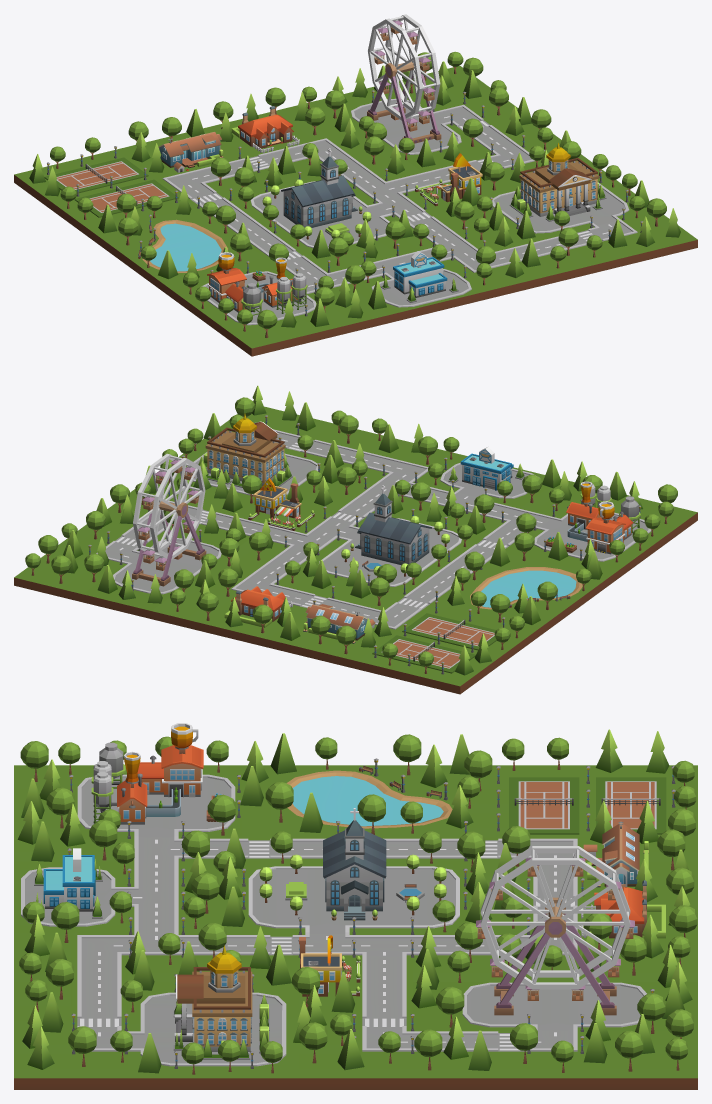
3 views of the same model, one above another, from view 1: azimuth 30°, elevation 25°; view 2: azimuth 150°, elevation 25°; view 3: azimuth 270°, elevation 25° (orthographic). The views are drawn at different scales.
Visible parts, largest first — view 1: lake, city hall with environment, rotation wheel, asphalt ground small wide, asphalt ground side turn, brewery house with environment, catholic temple with environment, asphalt ground small, asphalt ground wide side turn, asphalt ground large, tennis court brown, post office with environment (+33 smaller); view 2: lake, asphalt ground small wide, city hall with environment, rotation wheel, asphalt ground wide side turn, brewery house with environment, catholic temple with environment, asphalt ground large, asphalt ground small, tennis court brown (1), asphalt ground side turn, tennis court brown (+45 smaller); view 3: lake, asphalt ground wide side turn, asphalt ground side turn, rotation wheel, asphalt ground small wide, brewery house with environment, city hall with environment, asphalt ground large, catholic temple with environment, asphalt ground small, tennis court brown (1), ferris wheel (+120 smaller).
Boxes of the visible parts, x1,y1,x2,y2 form: lake: (93, 207, 274, 298); city hall with environment: (519, 143, 599, 216); rotation wheel: (368, 14, 440, 120); asphalt ground small wide: (323, 82, 486, 171); asphalt ground side turn: (473, 168, 647, 243); brewery house with environment: (207, 252, 307, 315); catholic temple with environment: (281, 148, 357, 227); asphalt ground small: (350, 261, 491, 322); asphalt ground wide side turn: (232, 177, 396, 256); asphalt ground large: (172, 265, 334, 341); tennis court brown: (44, 157, 148, 193); post office with environment: (393, 251, 447, 297); lake: (437, 545, 618, 636); asphalt ground small wide: (82, 522, 248, 618); city hall with environment: (205, 413, 285, 486); rotation wheel: (133, 453, 205, 559); asphalt ground wide side turn: (300, 515, 480, 594); brewery house with environment: (566, 481, 640, 554); catholic temple with environment: (355, 485, 431, 564); asphalt ground large: (530, 501, 678, 577); asphalt ground small: (419, 454, 548, 507); tennis court brown (1): (402, 613, 496, 650); asphalt ground side turn: (157, 438, 348, 500); tennis court brown: (372, 635, 475, 673); lake: (242, 765, 469, 837); asphalt ground wide side turn: (242, 861, 469, 933); asphalt ground side turn: (128, 982, 298, 1089); rotation wheel: (480, 846, 630, 989); asphalt ground small wide: (413, 982, 697, 1030); brewery house with environment: (91, 723, 203, 824); city hall with environment: (174, 945, 252, 1051); asphalt ground large: (71, 765, 241, 837); catholic temple with environment: (323, 808, 386, 920); asphalt ground small: (14, 861, 127, 933); tennis court brown (1): (509, 777, 579, 834); ferris wheel: (494, 897, 616, 1015).
Bounding box in the file's own units: 118 × 28.34 × 108.
1 material, 1 textured.
